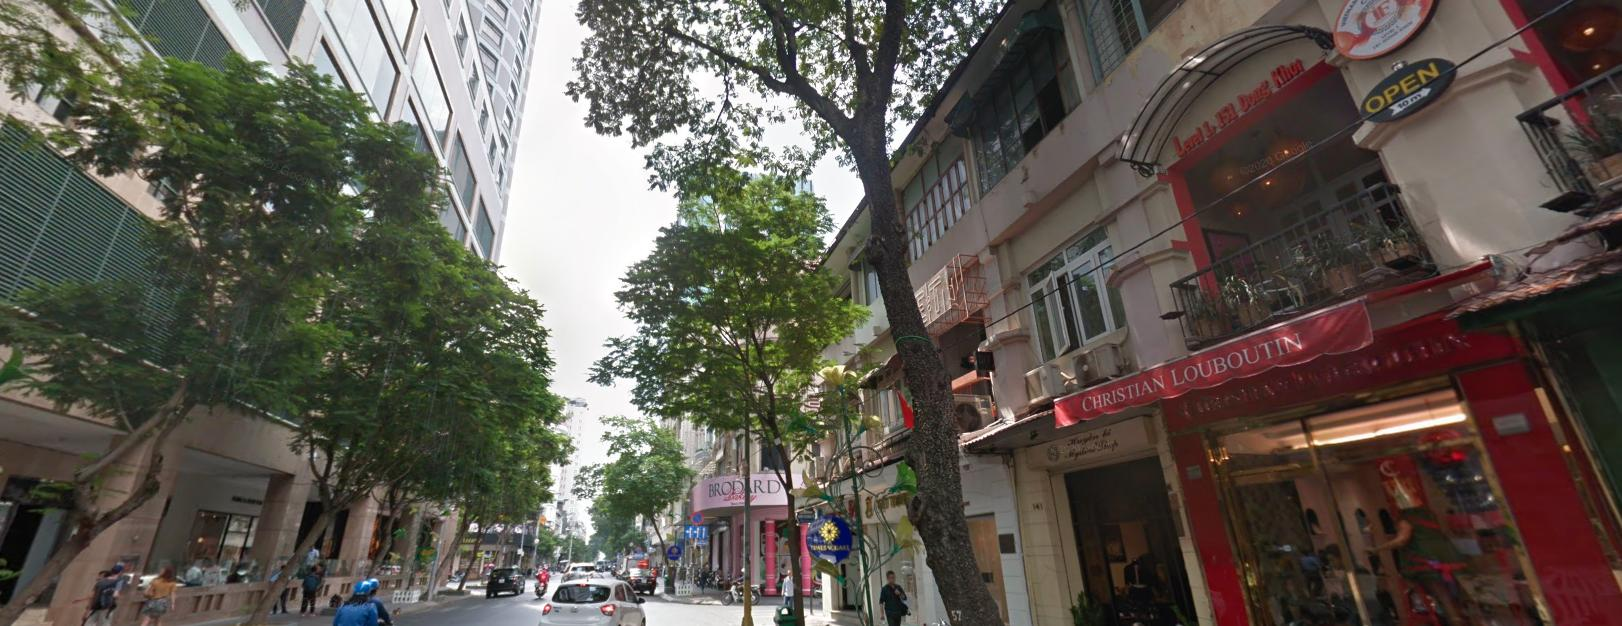Cam dung va do: (690, 510, 703, 524)
